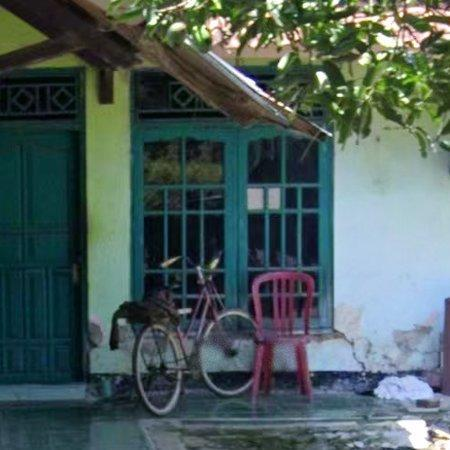bicycles: (110, 253, 256, 417)
